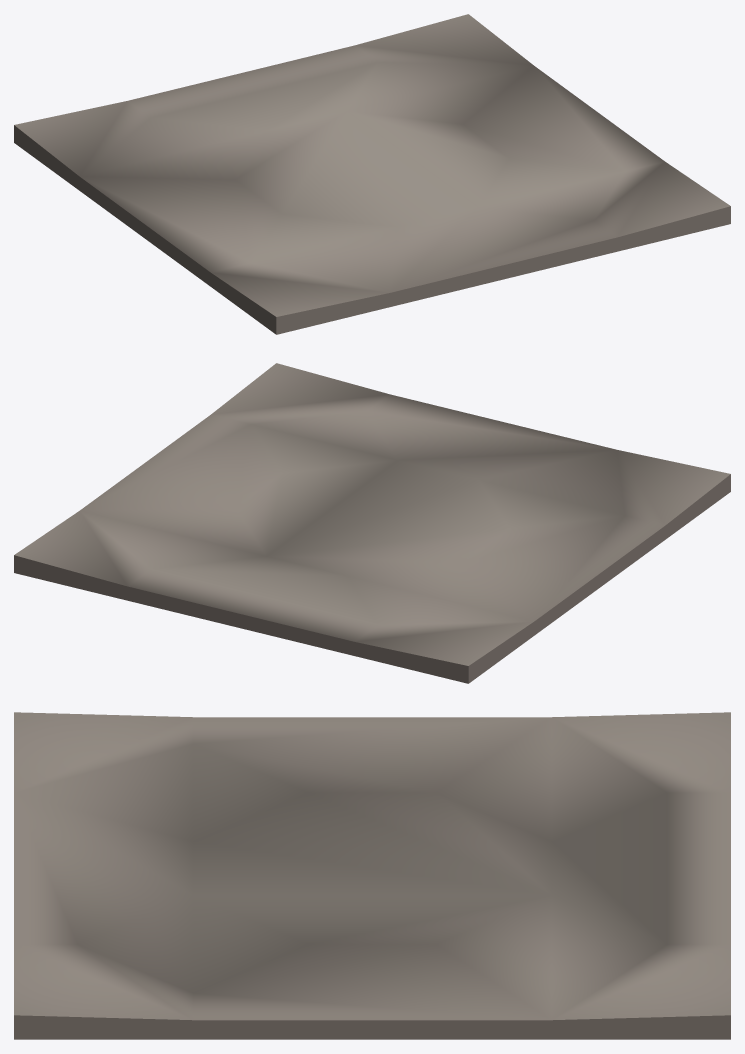
File: floor_tile_large-small.glb
The picture shows the model from 3 angles, top to bottom: view 1: azimuth 30°, elevation 25°; view 2: azimuth 150°, elevation 25°; view 3: azimuth 270°, elevation 25°; orthographic projection. The views are drawn at different scales.
Visible parts, largest first — view 1: floor_tile_large; view 2: floor_tile_large; view 3: floor_tile_large.
Boxes of the visible parts, <box> form: floor_tile_large: <box>14,14,730,334</box>; floor_tile_large: <box>14,363,730,683</box>; floor_tile_large: <box>14,712,730,1039</box>.
Size of the model in its own units: 4 by 0.15 by 4.
1 material, 1 textured.
